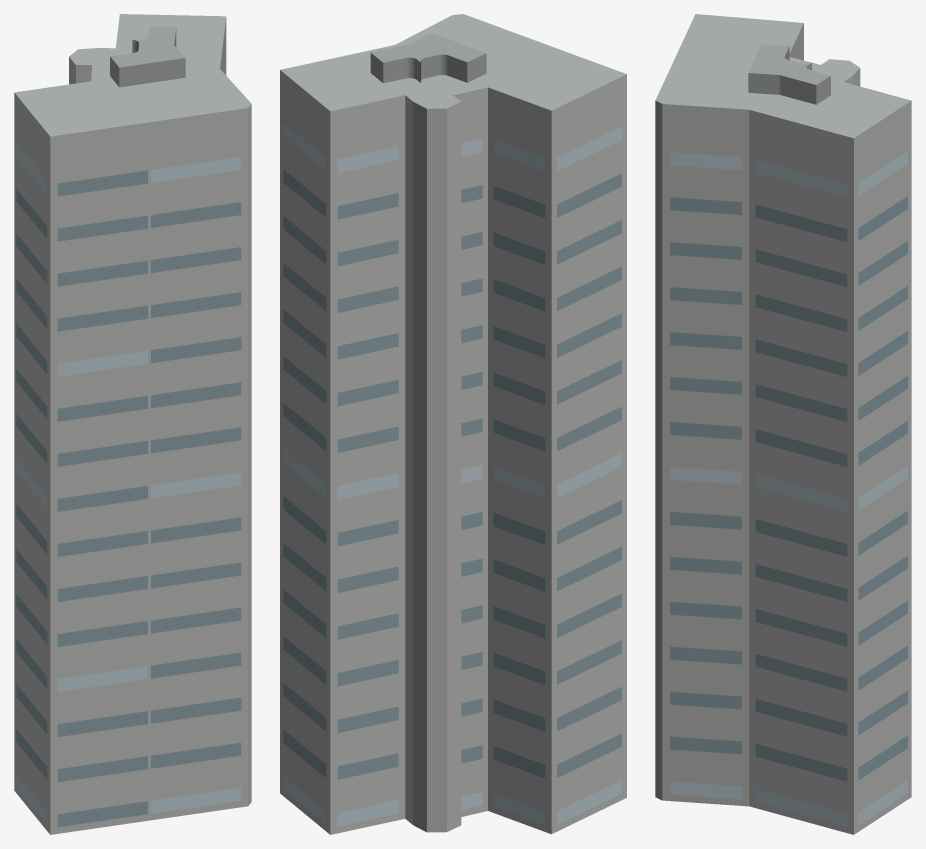
File: fallback-jamsil-trizium-330.glb
The picture shows the model from 3 angles, left to right: view 1: azimuth 30°, elevation 25°; view 2: azimuth 150°, elevation 25°; view 3: azimuth 270°, elevation 25°; orthographic projection. The views are drawn at different scales.
Parts seen in each view (by area): view 1: fallback-jamsil-trizium-330; view 2: fallback-jamsil-trizium-330; view 3: fallback-jamsil-trizium-330.
Part boxes in pixels (box(x1,y1,x2,y2)): fallback-jamsil-trizium-330: box(14, 14, 251, 834); fallback-jamsil-trizium-330: box(280, 14, 626, 834); fallback-jamsil-trizium-330: box(655, 14, 911, 834).
Bounding box in the file's own units: 32.38 × 87 × 28.2.
